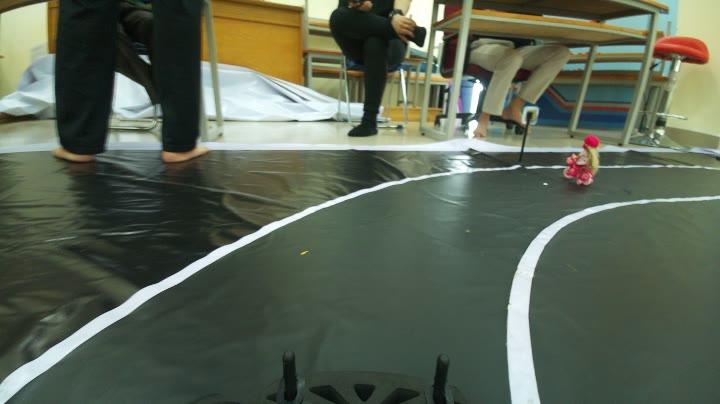pedestrian: (566, 126, 603, 189)
